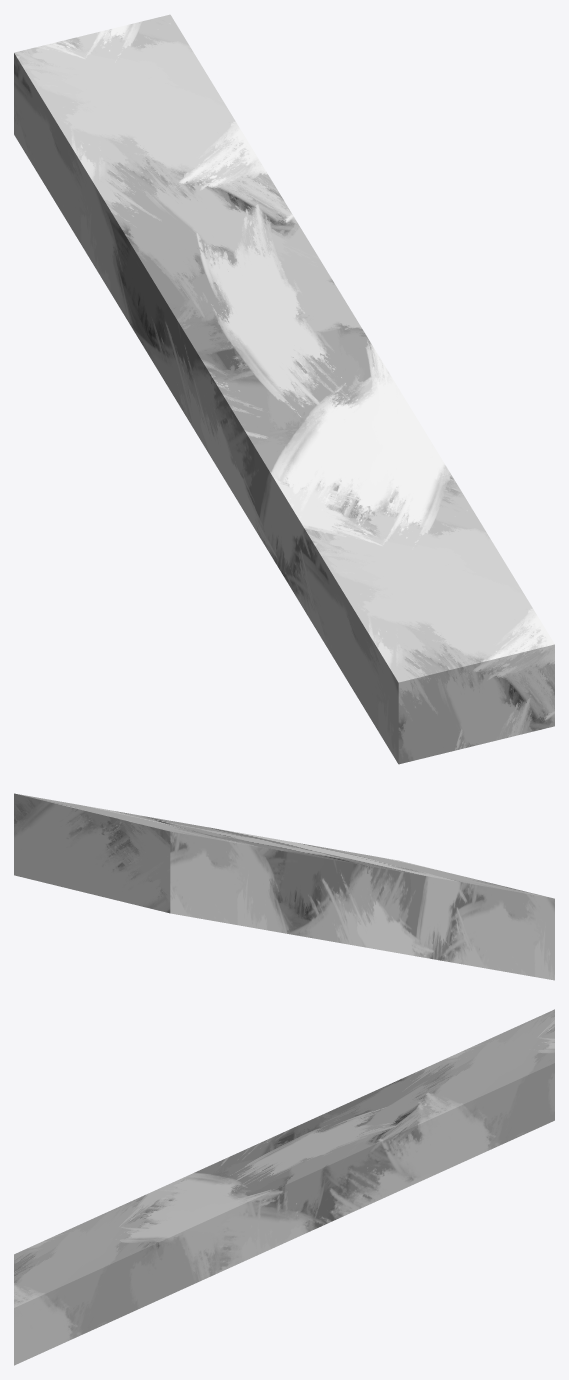
File: Village_Clay_Ledge_Right_B.fbx
The picture shows the model from 3 angles, top to bottom: view 1: azimuth 30°, elevation 25°; view 2: azimuth 150°, elevation 25°; view 3: azimuth 270°, elevation 25°; orthographic projection. The views are drawn at different scales.
Visible parts, largest first — view 1: Village_Wall_2m_Roof_A.224; view 2: Village_Wall_2m_Roof_A.224; view 3: Village_Wall_2m_Roof_A.224.
Boxes of the visible parts, bbox=[...] form: Village_Wall_2m_Roof_A.224: bbox=[14, 14, 554, 764]; Village_Wall_2m_Roof_A.224: bbox=[14, 793, 554, 980]; Village_Wall_2m_Roof_A.224: bbox=[14, 1009, 554, 1365].
Bounding box in the file's own units: 30 × 78.85 × 128.
